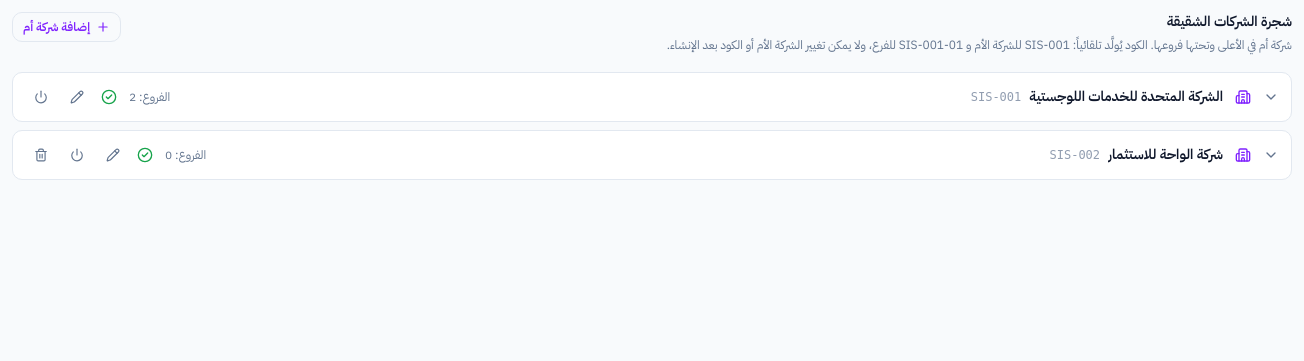
Test: Sister companies — tree rendering › opens a parent onto its branches, each with its SIS-001-01 style code
Step 1. Click the button "الشركة المتحدة للخدمات اللوجستية SIS-001 الفروع: 2" → (1126, 96), box [101,86,1279,106]
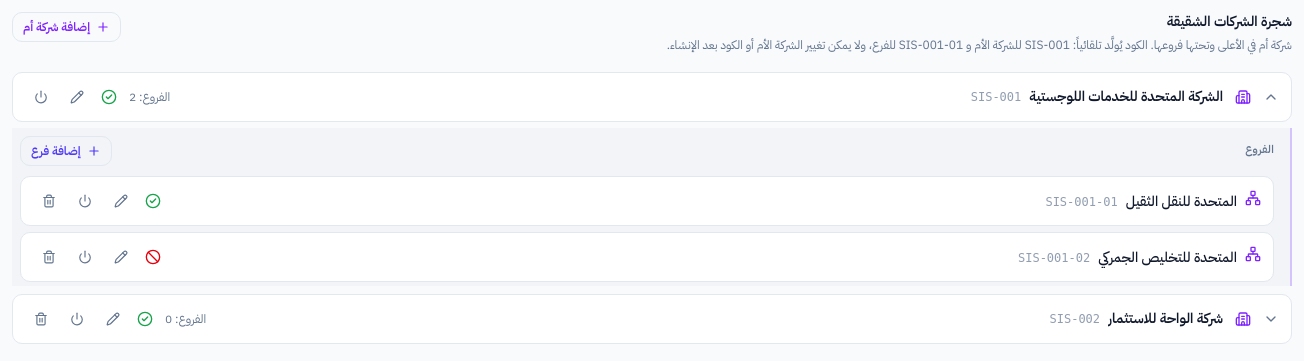
Now the text "المتحدة للنقل الثقيل" is shown, box [1126,192,1237,212]
Now the text "SIS-001-01" is shown, box [1045,194,1118,210]
Now the text "المتحدة للتخليص الجمركي" is shown, box [1098,248,1237,268]
